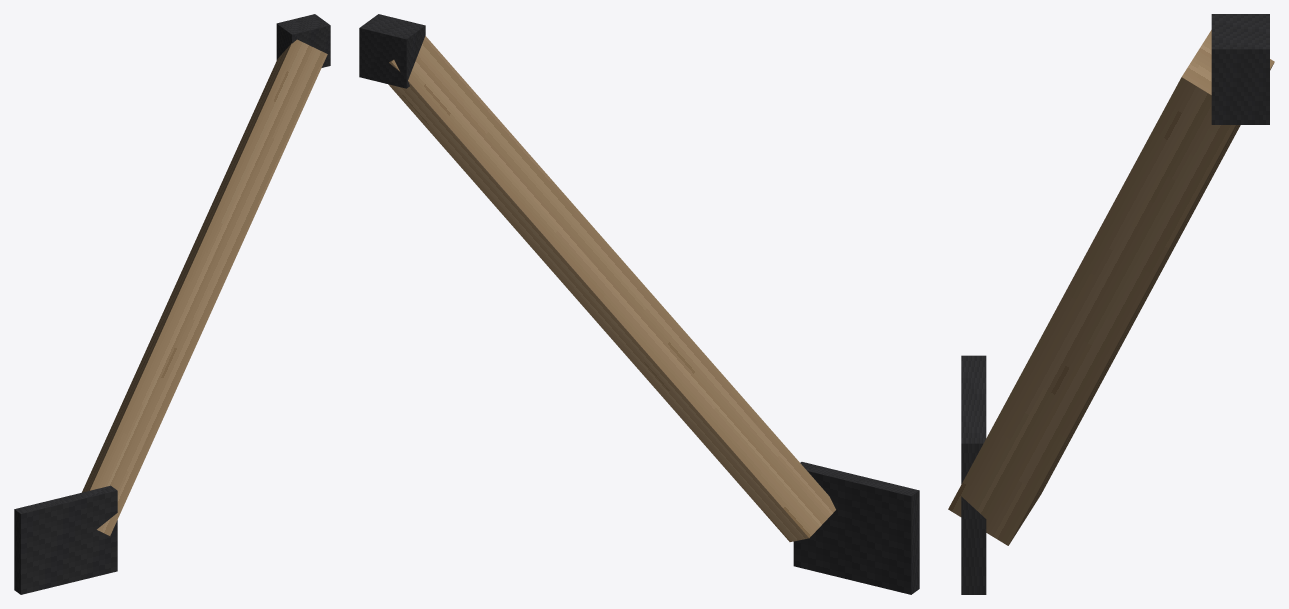
File: brace_r.obj
3 renders of one model, left to right at view 1: azimuth 30°, elevation 25°; view 2: azimuth 150°, elevation 25°; view 3: azimuth 270°, elevation 25°, orthographic. The views are drawn at different scales.
Parts seen in each view (by area): view 1: crossarm_brace_wood_r; view 2: crossarm_brace_wood_r; view 3: crossarm_brace_wood_r.
Boxes of the visible parts, left/top/right/bottom form: crossarm_brace_wood_r: left=14, top=14, right=330, bottom=594; crossarm_brace_wood_r: left=359, top=14, right=919, bottom=594; crossarm_brace_wood_r: left=948, top=14, right=1274, bottom=594.
Bounding box in the file's own units: 1.22 × 1.32 × 0.4899.
